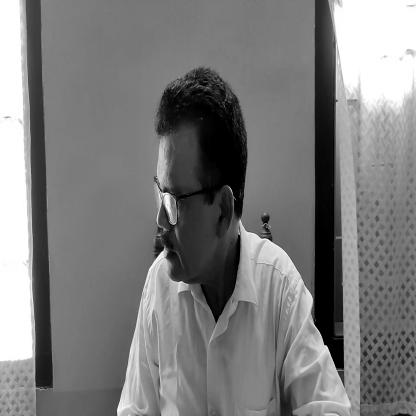Distracted: (146, 67, 240, 284)
